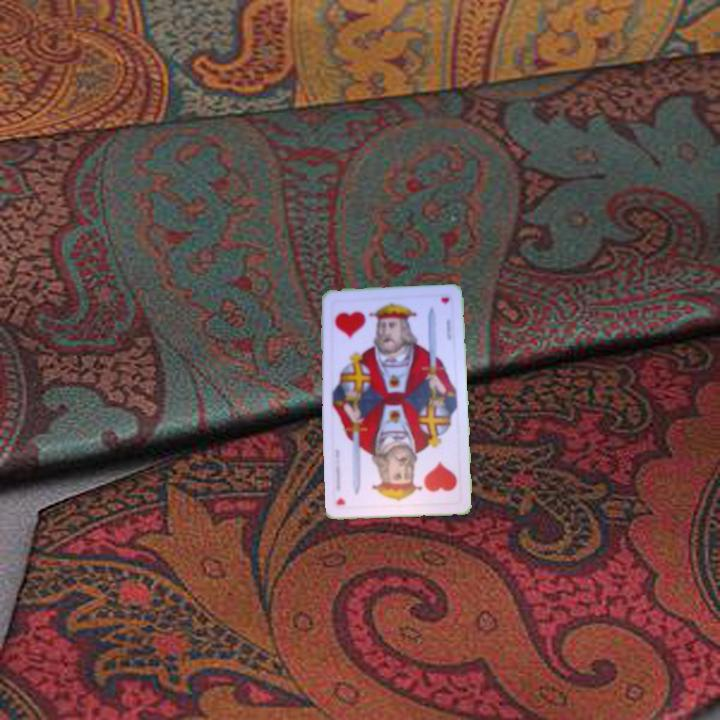h_k.png: (393, 447, 463, 507), (327, 296, 396, 356)
